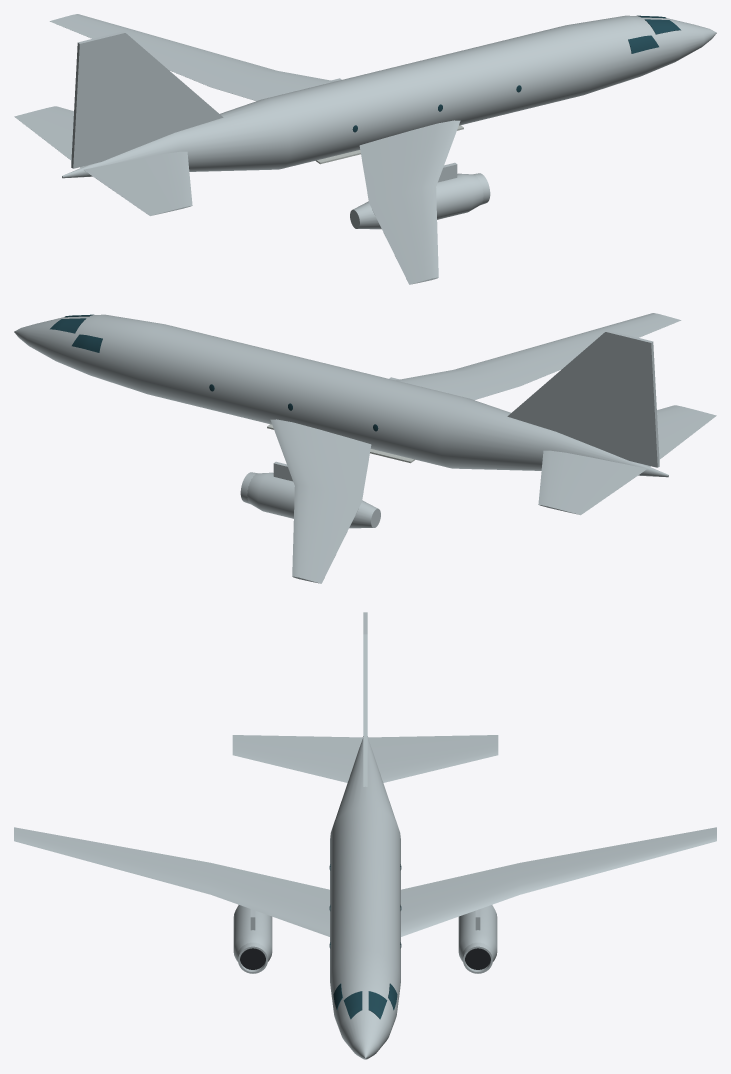
Rendered from usn_mpa_p8a.glb.
3 views of the same model, one above another, from view 1: azimuth 30°, elevation 25°; view 2: azimuth 150°, elevation 25°; view 3: azimuth 270°, elevation 25° (orthographic). The views are drawn at different scales.
Visible parts, largest first — view 1: airframe_light, glazing; view 2: airframe_light, glazing; view 3: airframe_light, glazing, rubber.
Boxes of the visible parts, x1,y1,x2,y2 form: airframe_light: (14, 14, 716, 284); glazing: (352, 15, 680, 132); airframe_light: (14, 313, 716, 583); glazing: (50, 314, 378, 431); airframe_light: (14, 612, 716, 1059); glazing: (329, 864, 401, 1019); rubber: (240, 948, 490, 969).
Bounding box in the file's own units: 10 × 3 × 9.53.
